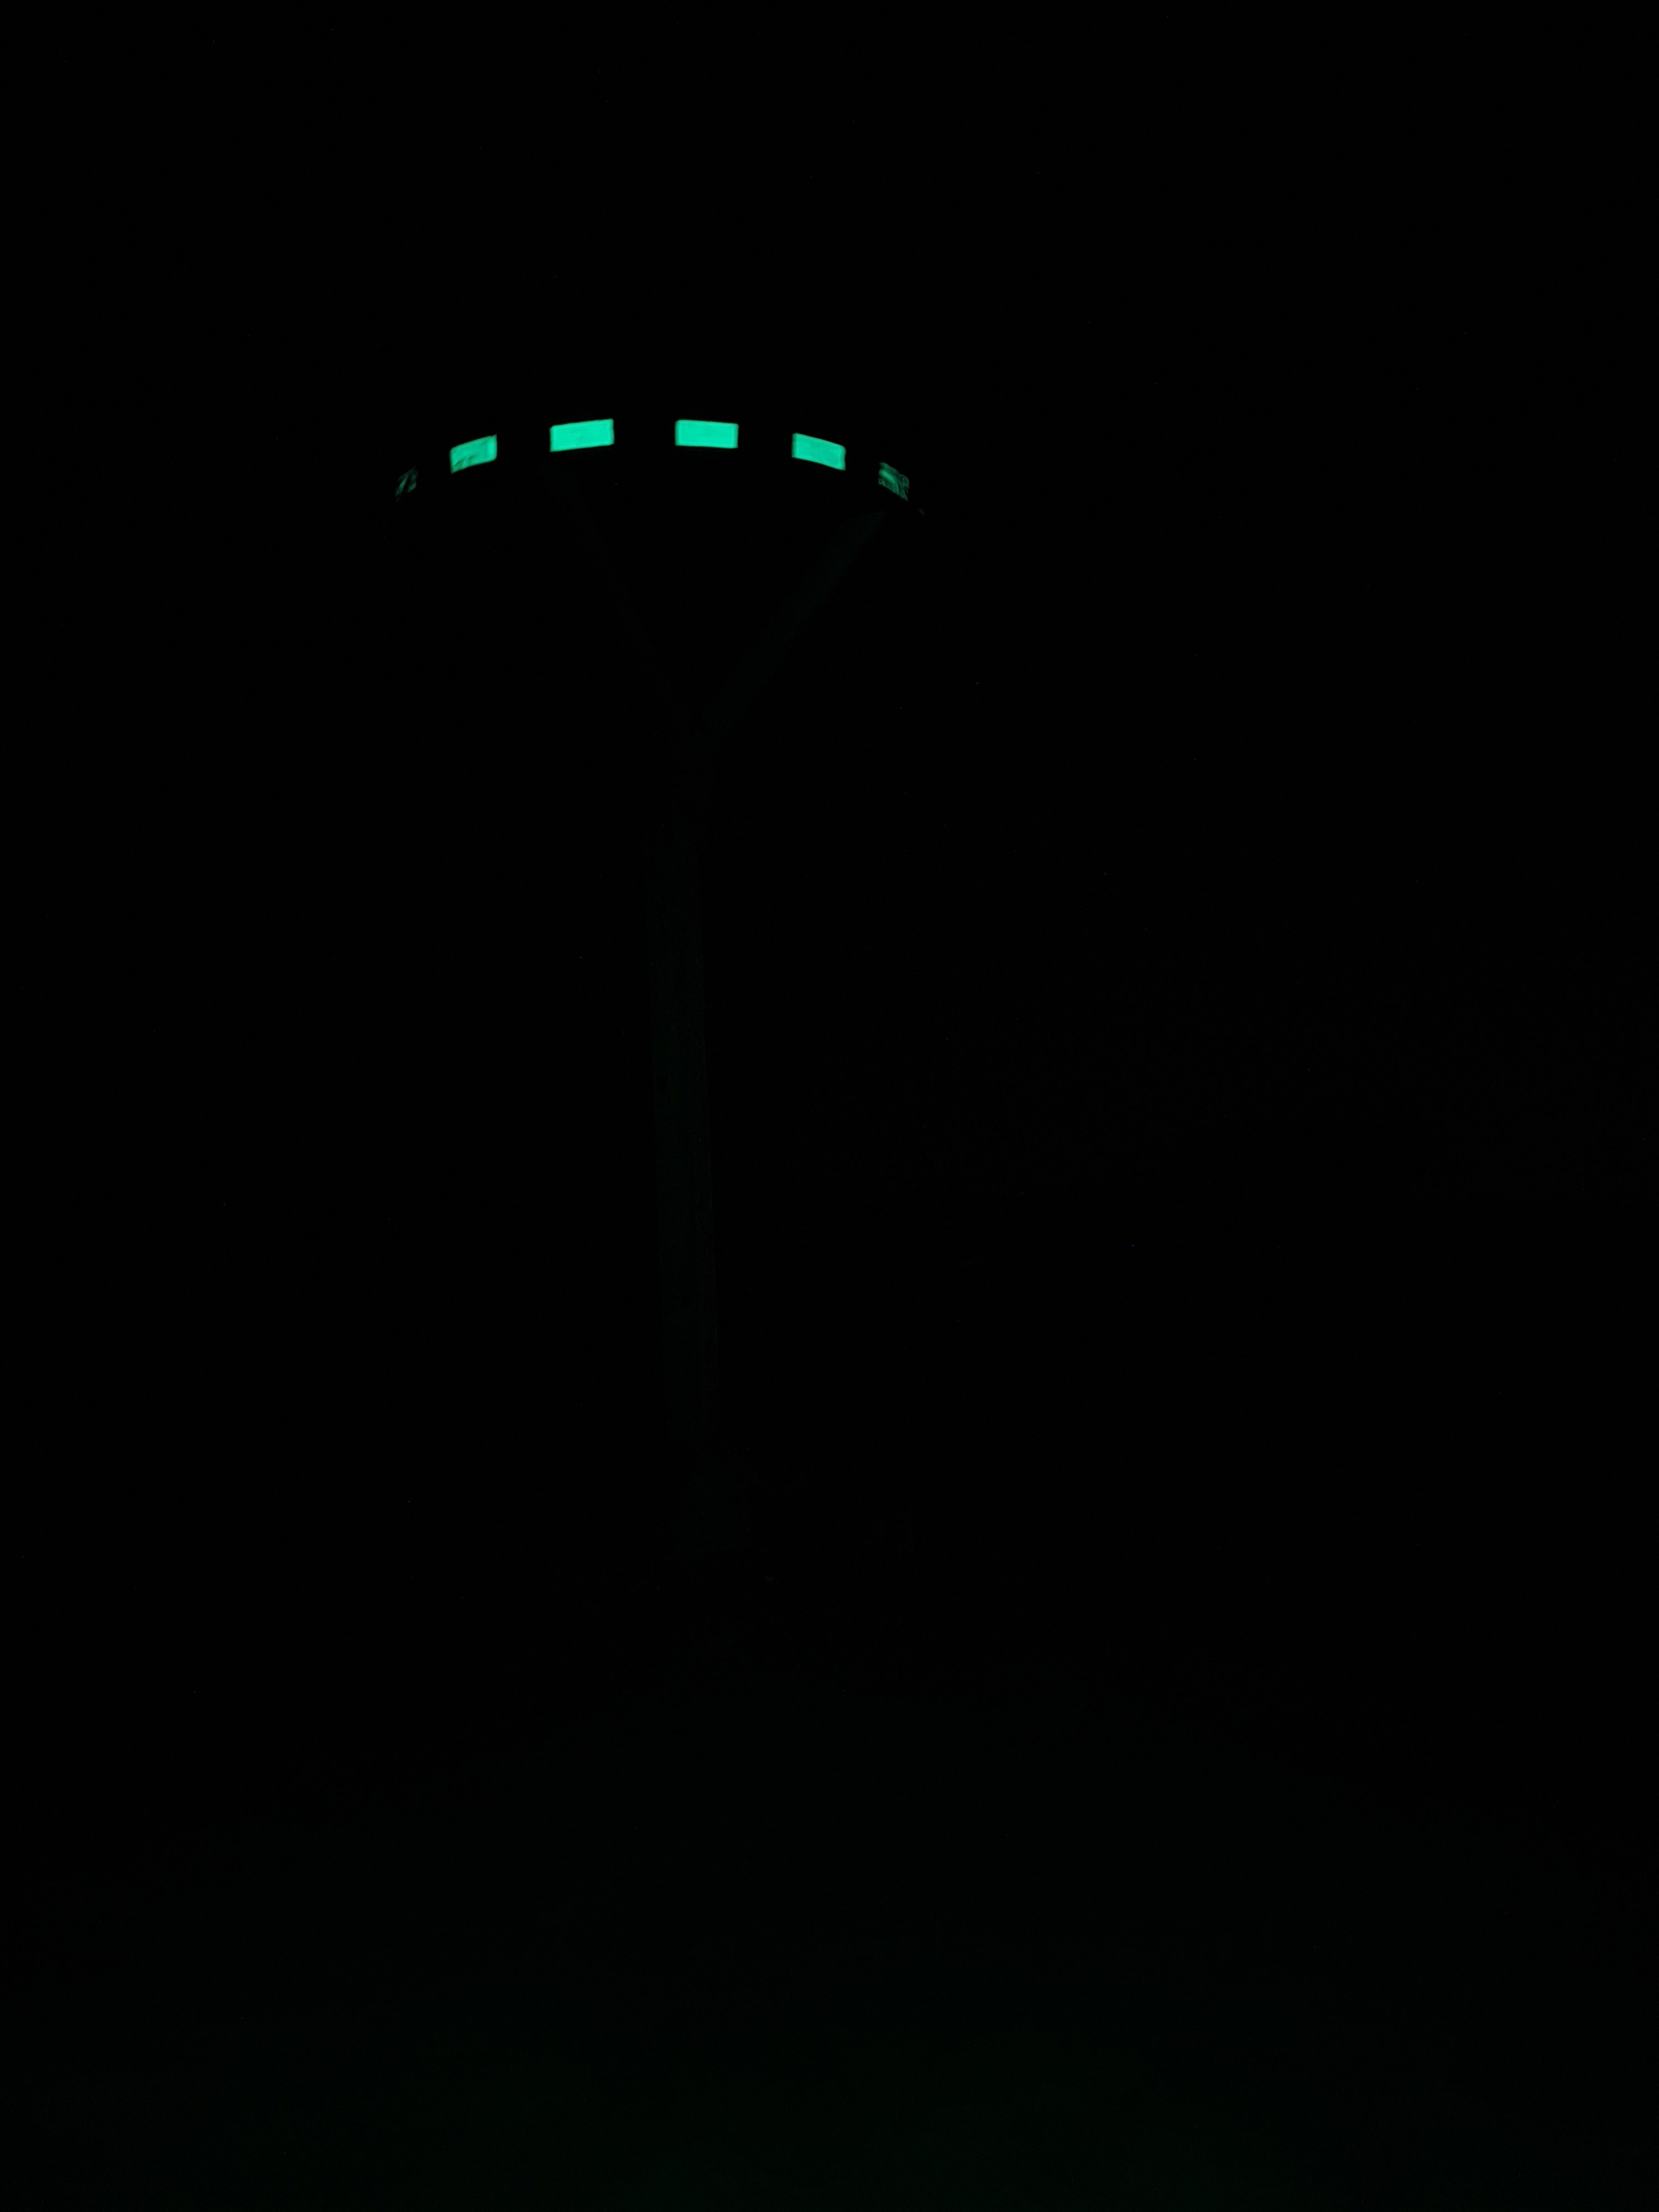hoop: (382, 408, 917, 503)
